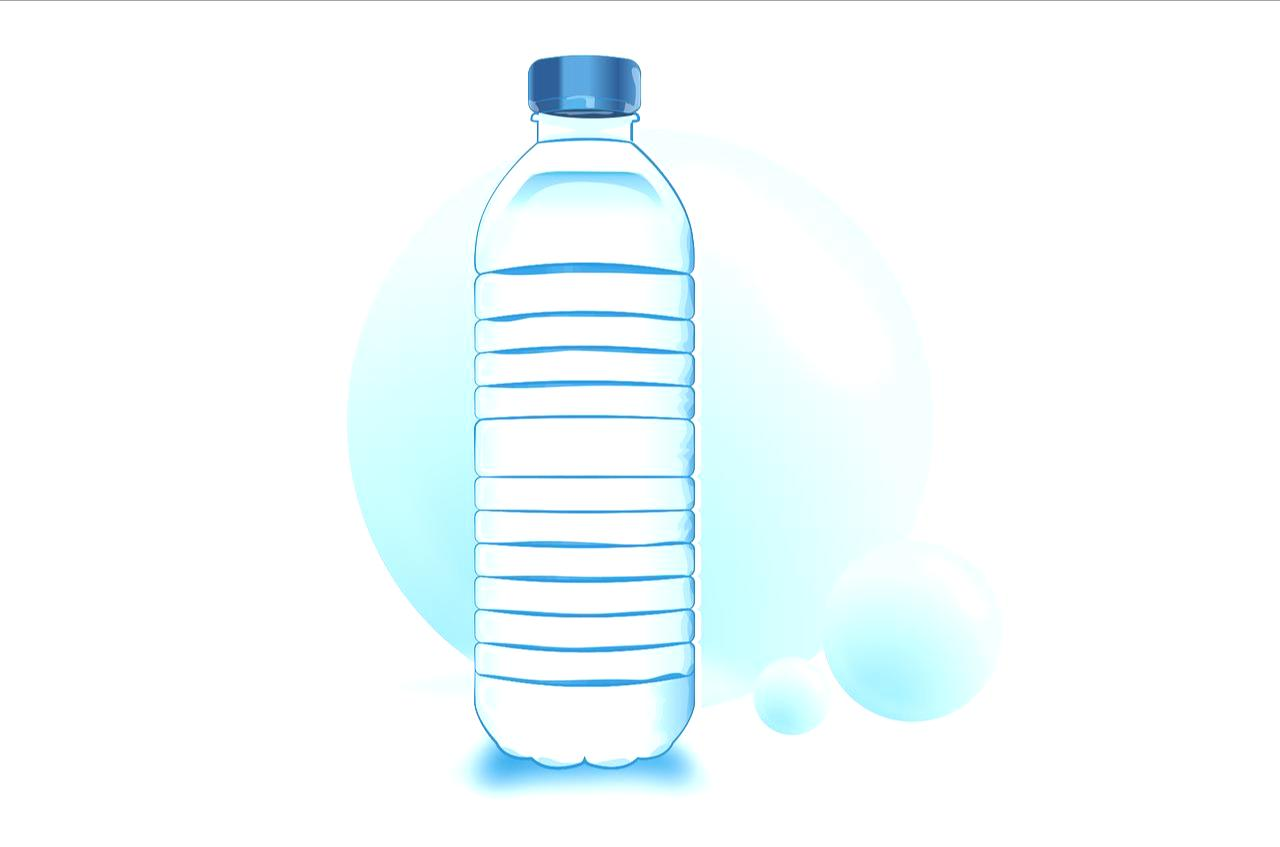bottle: (458, 42, 693, 798)
